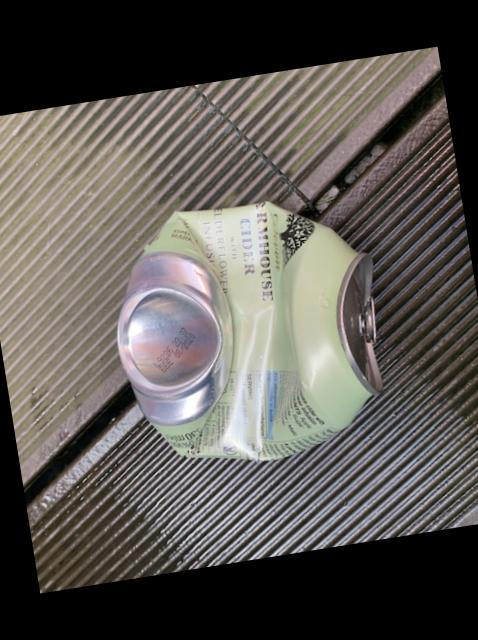metal: (118, 203, 382, 461)
